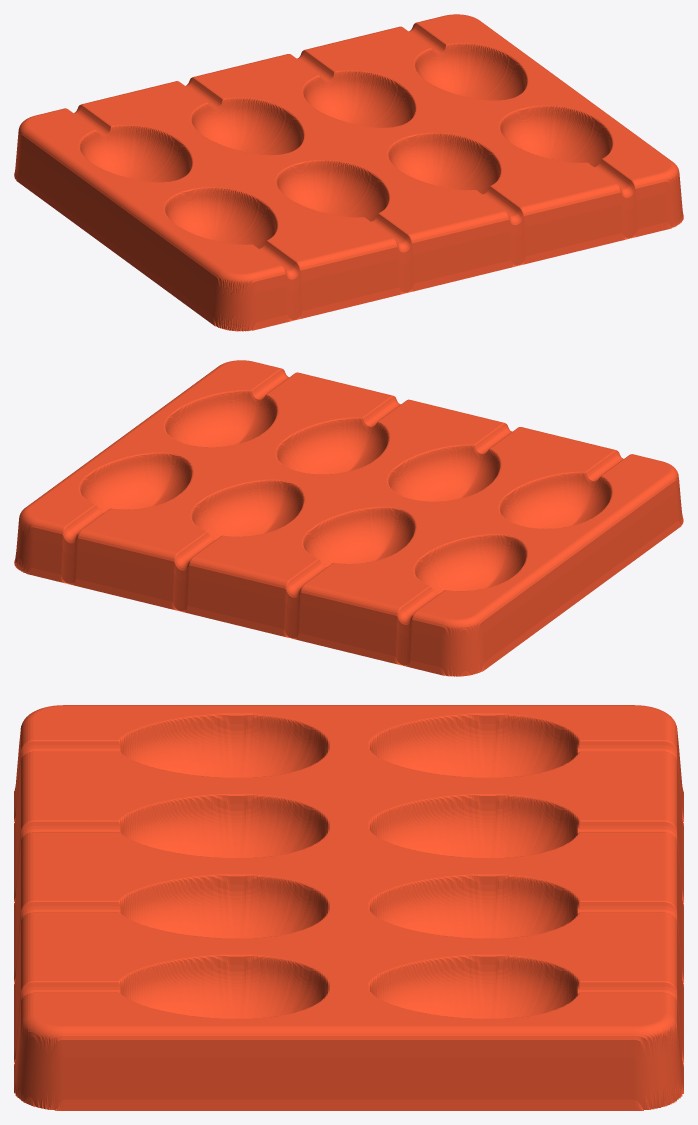
The model's file is mold.glb.
3 renders of one model, top to bottom at view 1: azimuth 30°, elevation 25°; view 2: azimuth 150°, elevation 25°; view 3: azimuth 270°, elevation 25°, orthographic. The views are drawn at different scales.
Visible parts, largest first — view 1: geometry_0; view 2: geometry_0; view 3: geometry_0.
Boxes of the visible parts, <box> form: geometry_0: <box>14,14,683,331</box>; geometry_0: <box>14,360,683,676</box>; geometry_0: <box>14,705,683,1110</box>.
Size of the model in its own units: 0.1459 by 0.0155 by 0.1229.
